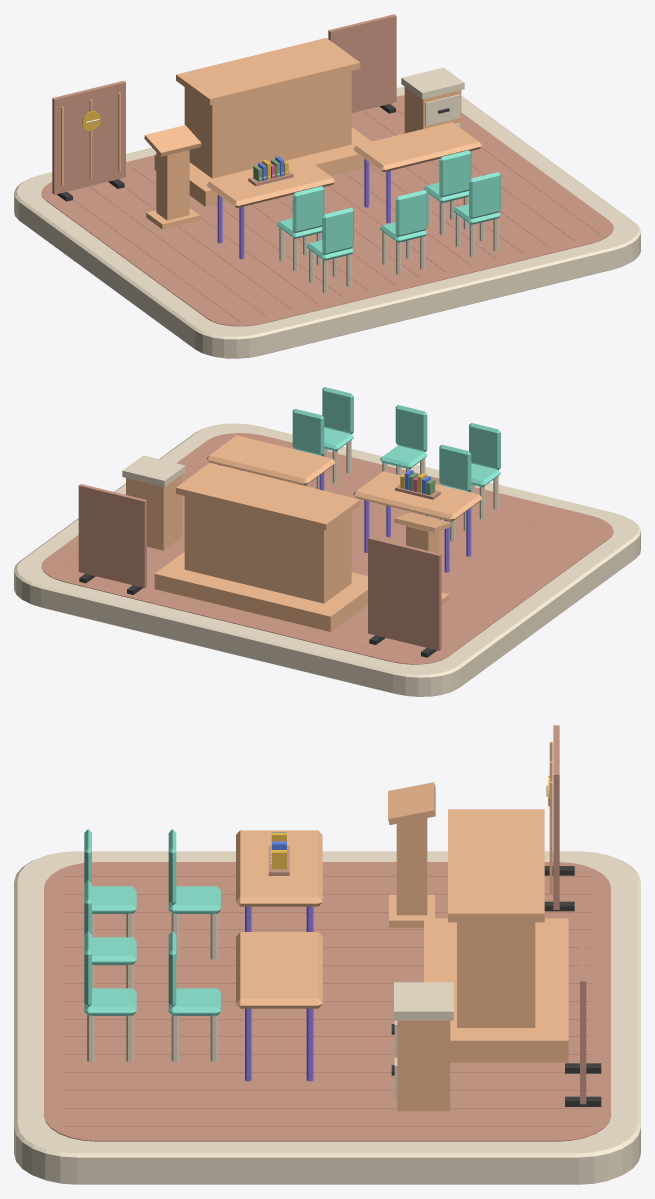
The picture shows the model from 3 angles, top to bottom: view 1: azimuth 30°, elevation 25°; view 2: azimuth 150°, elevation 25°; view 3: azimuth 270°, elevation 25°; orthographic projection. The views are drawn at different scales.
Visible parts, largest first — view 1: COM-02 Floor Surface, COM-01 Rounded Base Direct, Bench, Panel, Top, Panel.001, Rounded table top.001, Rounded table top, Platform, Body, Backrest.003, Backrest (+8 smaller); view 2: COM-02 Floor Surface, COM-01 Rounded Base Direct, Bench, Panel, Platform, Top, Panel.001, Rounded table top.001, Rounded table top, Body.001, Backrest, Backrest.001 (+9 smaller); view 3: COM-02 Floor Surface, COM-01 Rounded Base Direct, Top, Platform, Bench, Rounded table top.001, Rounded table top, Body.001, Body, Top.001, Reading top, Seat.001 (+12 smaller).
Boxes of the visible parts, <box> form: COM-02 Floor Surface: <box>41,95,613,326</box>; COM-01 Rounded Base Direct: <box>14,86,640,358</box>; Bench: <box>184,71,351,178</box>; Panel: <box>52,80,125,194</box>; Top: <box>176,38,360,105</box>; Panel.001: <box>328,14,396,112</box>; Rounded table top.001: <box>353,122,481,172</box>; Rounded table top: <box>206,158,335,207</box>; Platform: <box>154,127,373,206</box>; Body: <box>156,150,189,220</box>; Backrest.003: <box>395,190,427,236</box>; Backrest: <box>292,186,324,232</box>; COM-02 Floor Surface: <box>41,433,613,664</box>; COM-01 Rounded Base Direct: <box>14,423,640,696</box>; Bench: <box>184,496,351,603</box>; Panel: <box>368,537,441,650</box>; Platform: <box>154,552,367,631</box>; Top: <box>176,463,360,530</box>; Panel.001: <box>78,484,146,587</box>; Rounded table top.001: <box>206,435,335,485</box>; Rounded table top: <box>353,471,482,521</box>; Body.001: <box>126,475,182,550</box>; Backrest: <box>439,444,471,491</box>; Backrest.001: <box>292,409,324,455</box>; COM-02 Floor Surface: <box>44,862,610,1141</box>; COM-01 Rounded Base Direct: <box>14,851,640,1184</box>; Top: <box>448,809,544,922</box>; Platform: <box>424,918,568,1062</box>; Bench: <box>457,922,535,1027</box>; Rounded table top.001: <box>236,932,322,1008</box>; Rounded table top: <box>236,830,322,906</box>; Body.001: <box>397,1020,450,1111</box>; Body: <box>396,818,427,915</box>; Top.001: <box>394,982,453,1020</box>; Reading top: <box>388,782,435,824</box>; Seat.001: <box>168,988,220,1015</box>.
Size of the model in its own units: 6 by 1.59 by 5.2.
1 material, 1 textured.
